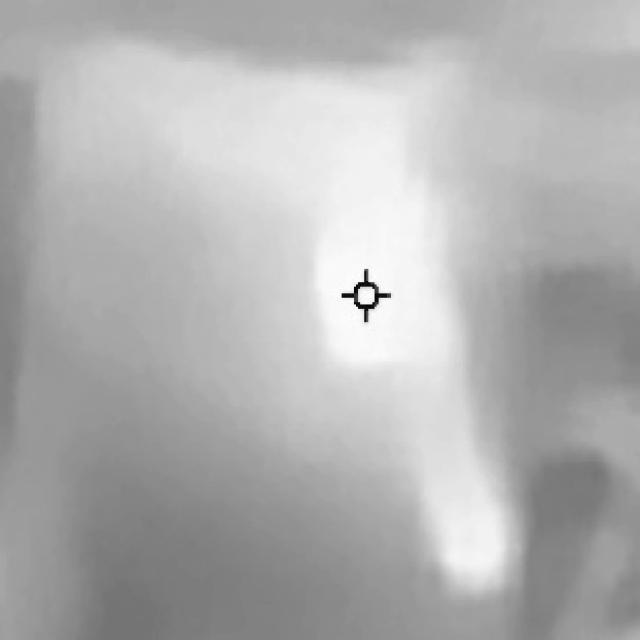Weapon: (66, 39, 579, 613)
